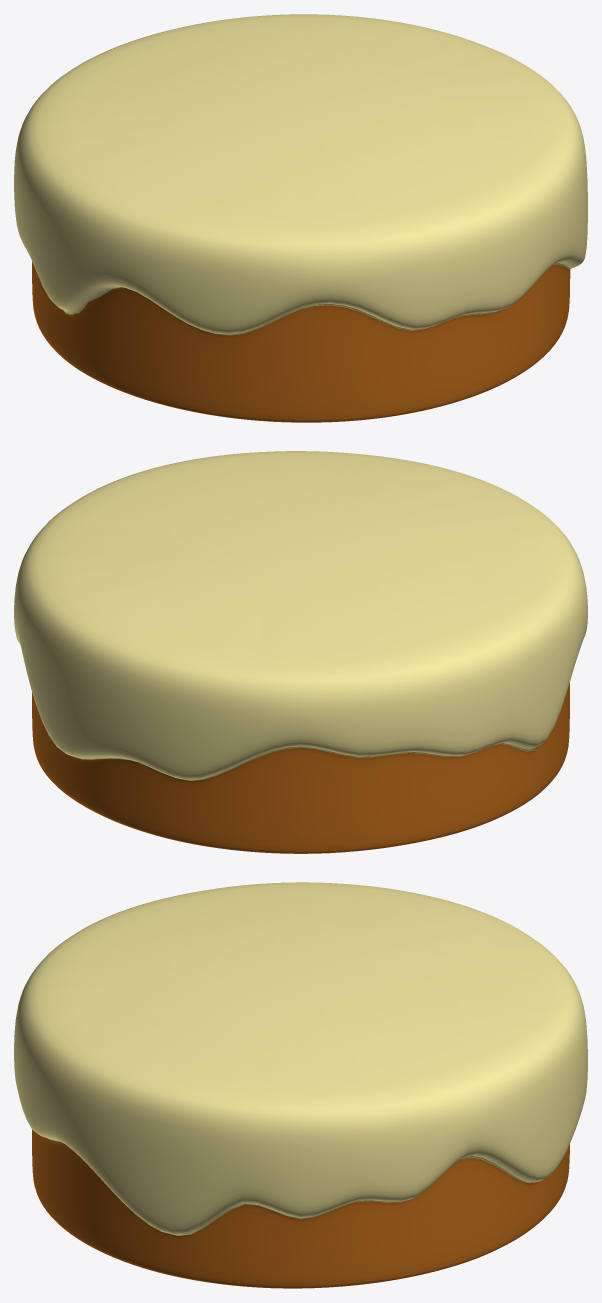
The model's file is cake.fbx.
3 renders of one model, top to bottom at view 1: azimuth 30°, elevation 25°; view 2: azimuth 150°, elevation 25°; view 3: azimuth 270°, elevation 25°, orthographic.
Visible parts, largest first — view 1: pCylinder4; view 2: pCylinder4; view 3: pCylinder4.
Boxes of the visible parts, x1,y1,x2,y2 form: pCylinder4: (14,14,587,422); pCylinder4: (14,451,587,853); pCylinder4: (14,882,587,1288).
Size of the model in its own units: 4.11 by 1.61 by 4.11.
1 material, 1 textured.
